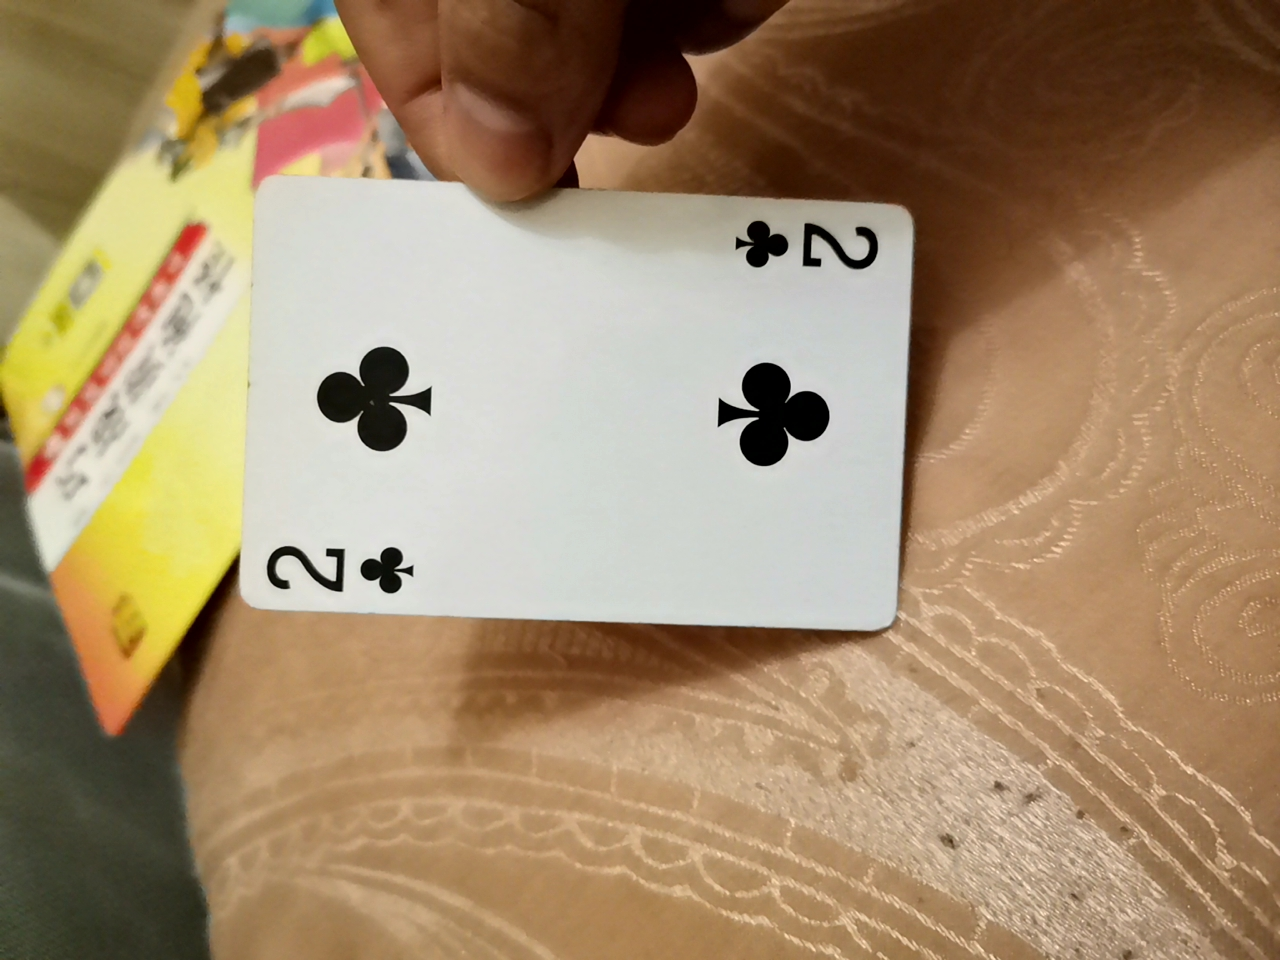mh 2: (230, 175, 923, 646)
